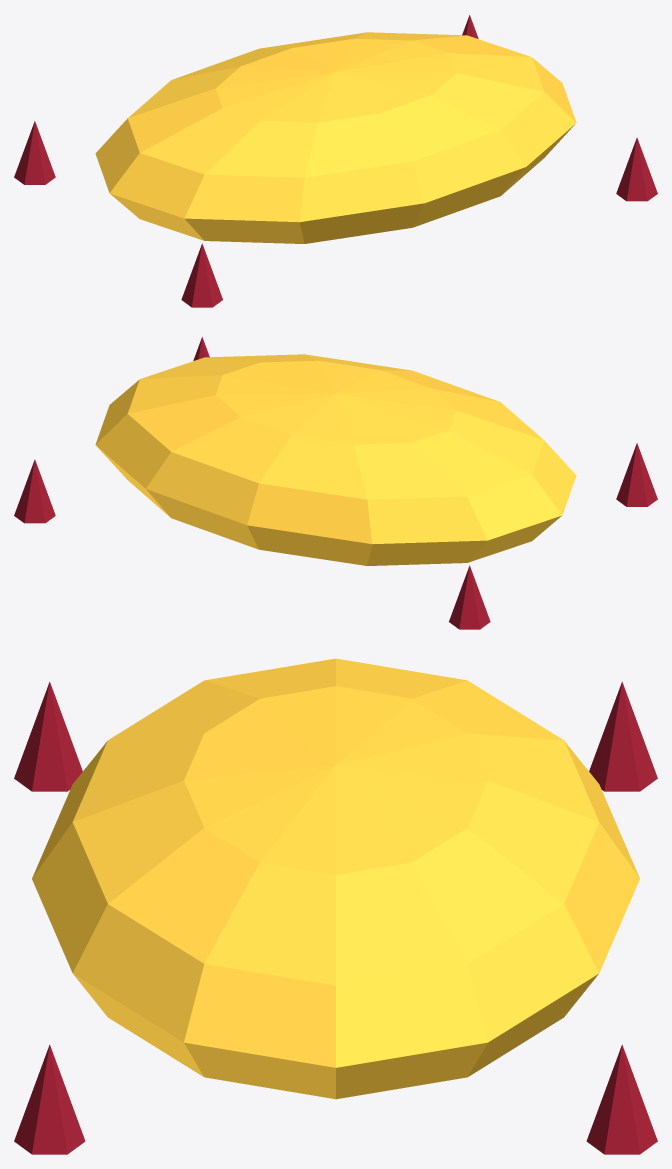
File: golden_pillow.glb
The picture shows the model from 3 angles, top to bottom: view 1: azimuth 30°, elevation 25°; view 2: azimuth 150°, elevation 25°; view 3: azimuth 270°, elevation 25°; orthographic projection. The views are drawn at different scales.
Parts seen in each view (by area): view 1: pillow_gold, tassels_tassel_red (×3); view 2: pillow_gold, tassels_tassel_red (×3); view 3: pillow_gold, tassels_tassel_red (×4).
Part boxes in pixels (box(x1,y1,x2,y2)): pillow_gold: box(95, 32, 576, 243); tassels_tassel_red (×3): box(14, 121, 657, 307); pillow_gold: box(95, 354, 576, 565); tassels_tassel_red (×3): box(14, 443, 657, 629); pillow_gold: box(32, 658, 639, 1099); tassels_tassel_red (×4): box(14, 681, 657, 1154).
Size of the model in its own units: 0.5146 by 0.14 by 0.36.
